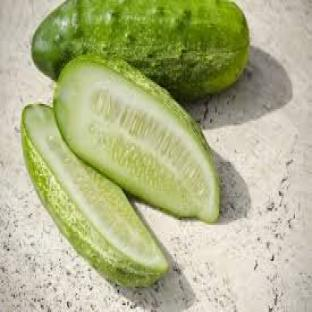Cucumber: (54, 57, 218, 221), (22, 106, 167, 286)
